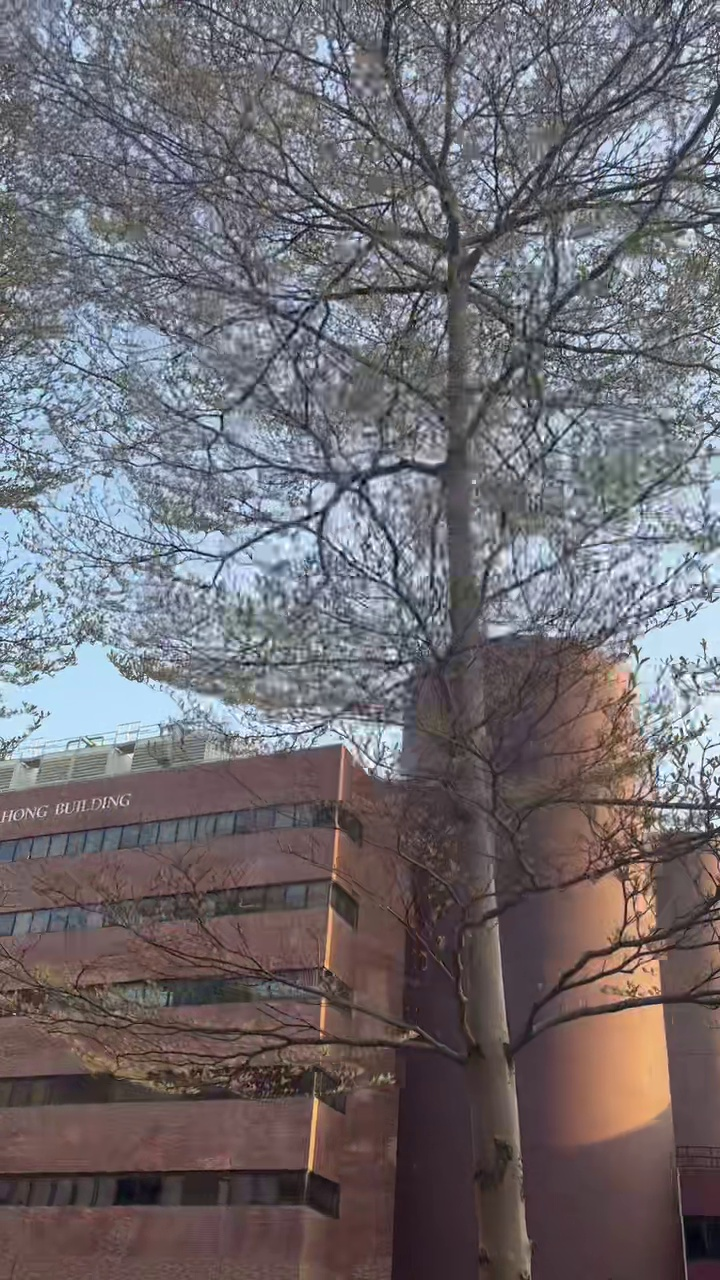Terminalia mantaly: (3, 0, 719, 1279)
